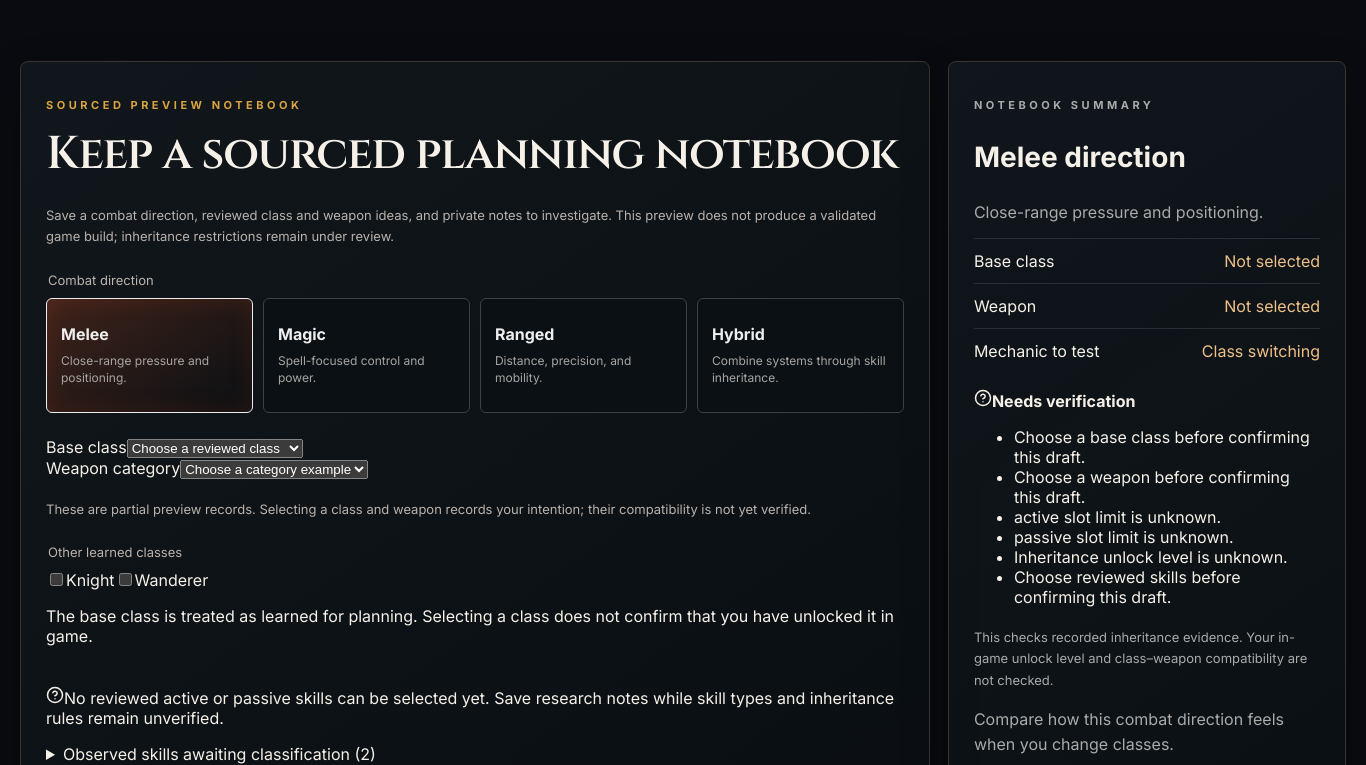
Test: Emberville sourced planning workspace › keeps the tool usable when browser storage is unavailable
Click the button "Ranged Distance, precision, and mobility." at {"x": 584, "y": 355}, box [480,298,687,413]
(page scrolled)
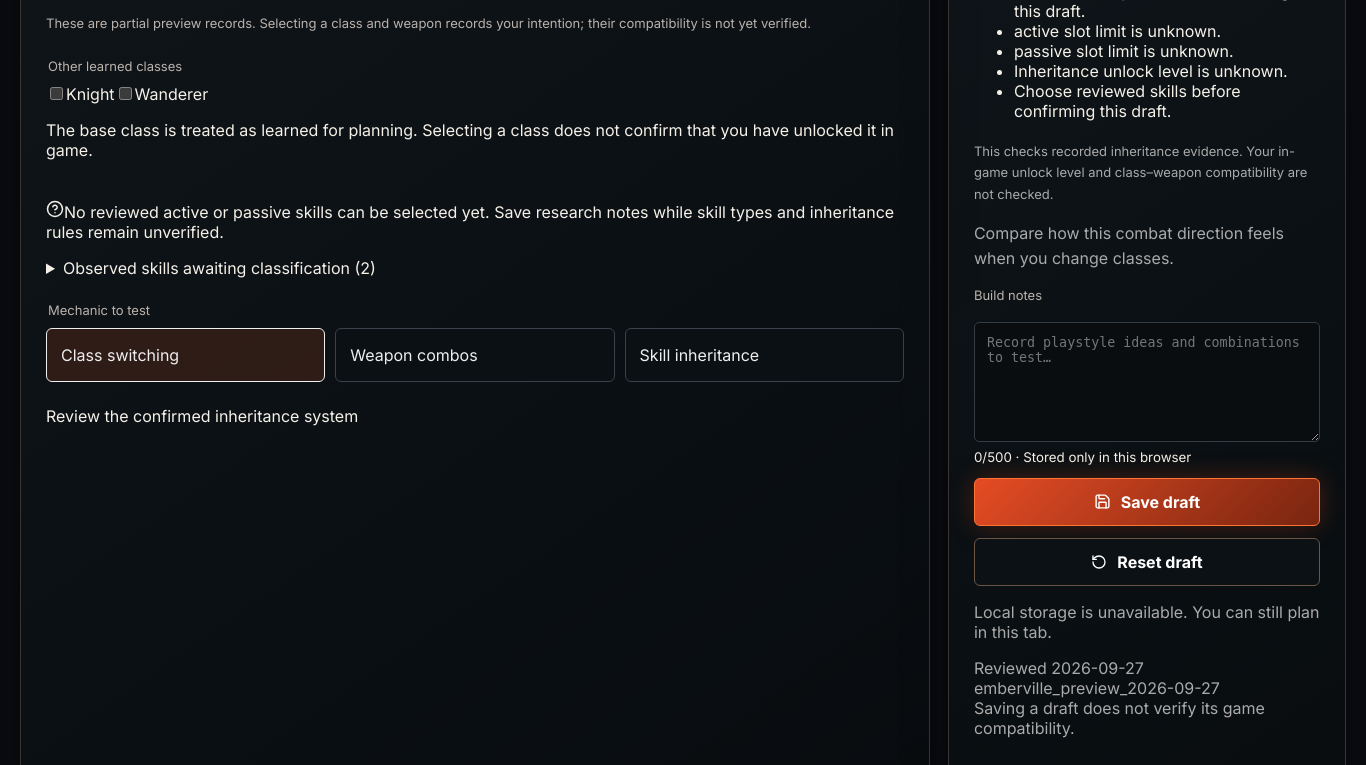
Type "An idea" into the text box labelled "Build notes" at {"x": 1147, "y": 382}, box [974,322,1320,442]
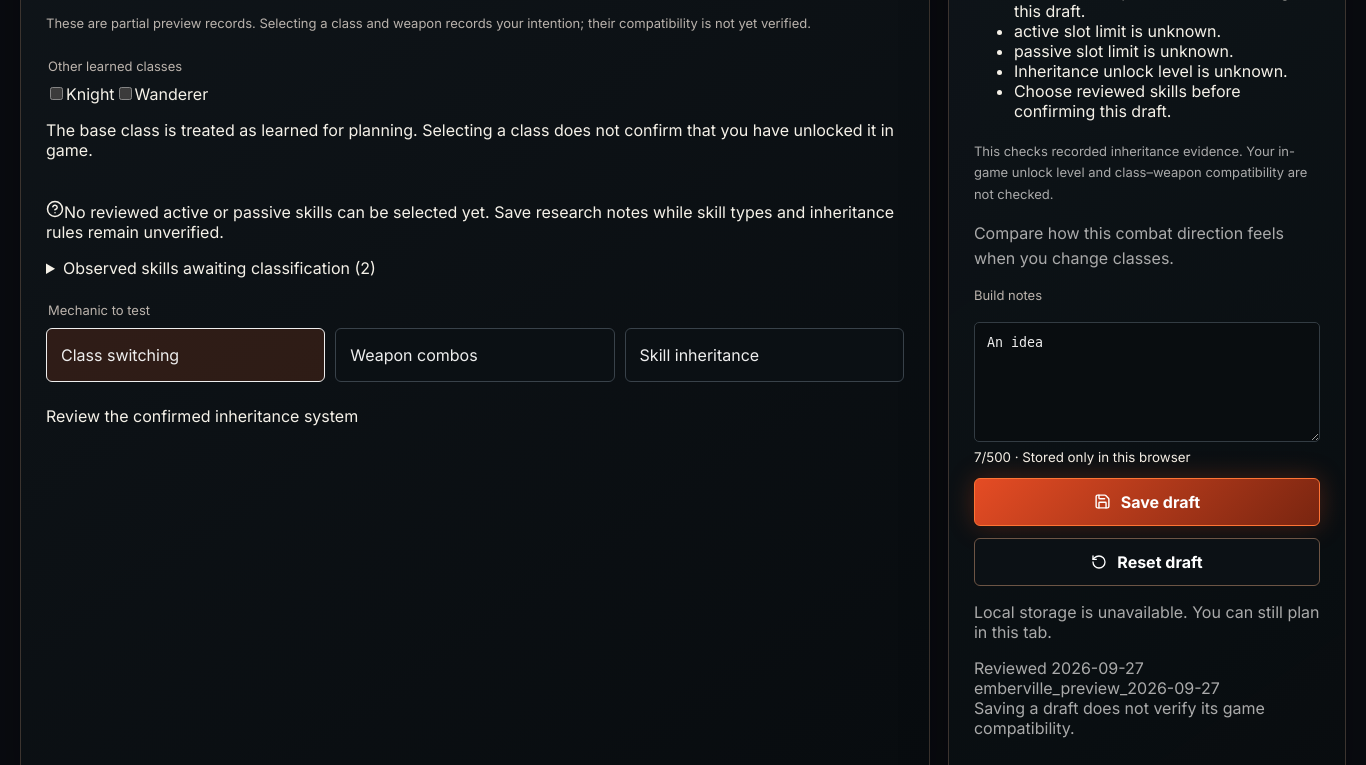
Click the button "Save draft" at {"x": 1147, "y": 502}, box [974,478,1320,526]
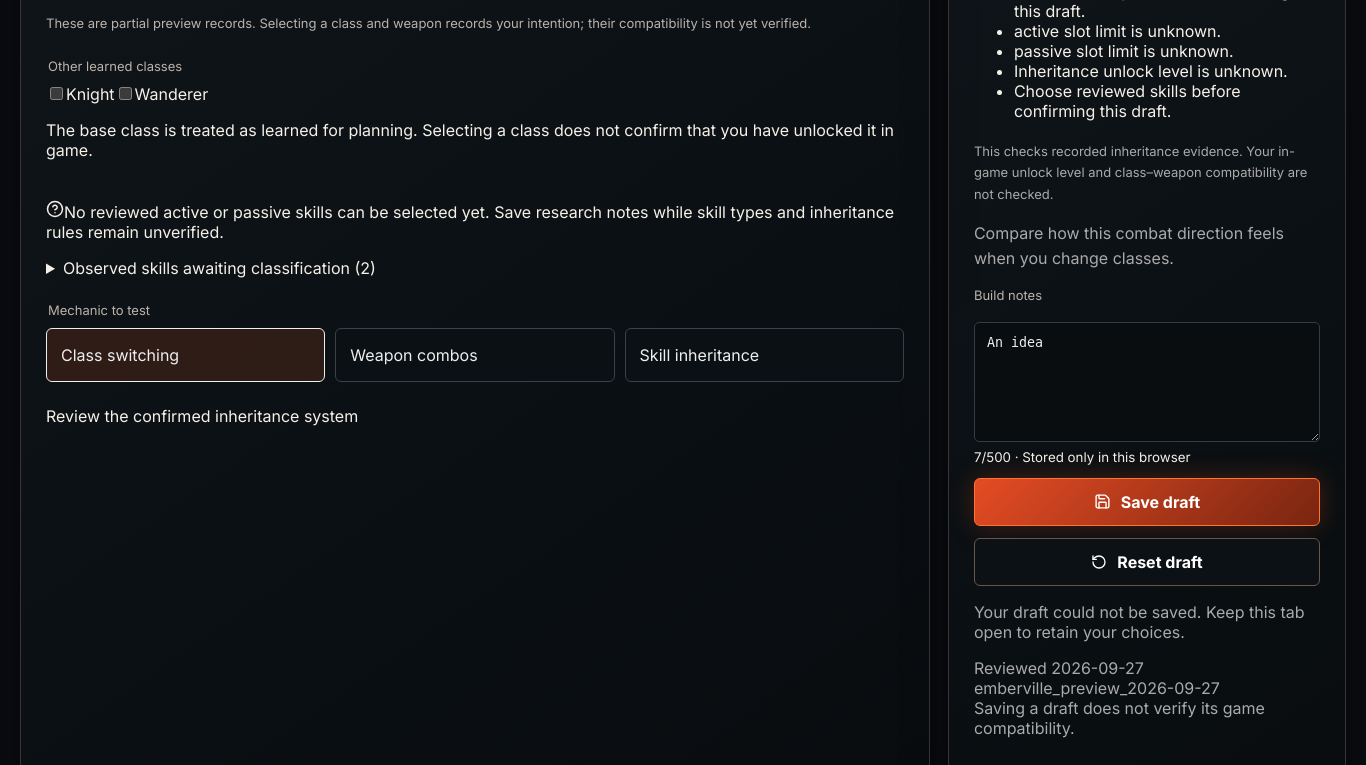
Expected: the message shows "could not be saved", [974,602,1305,642]
